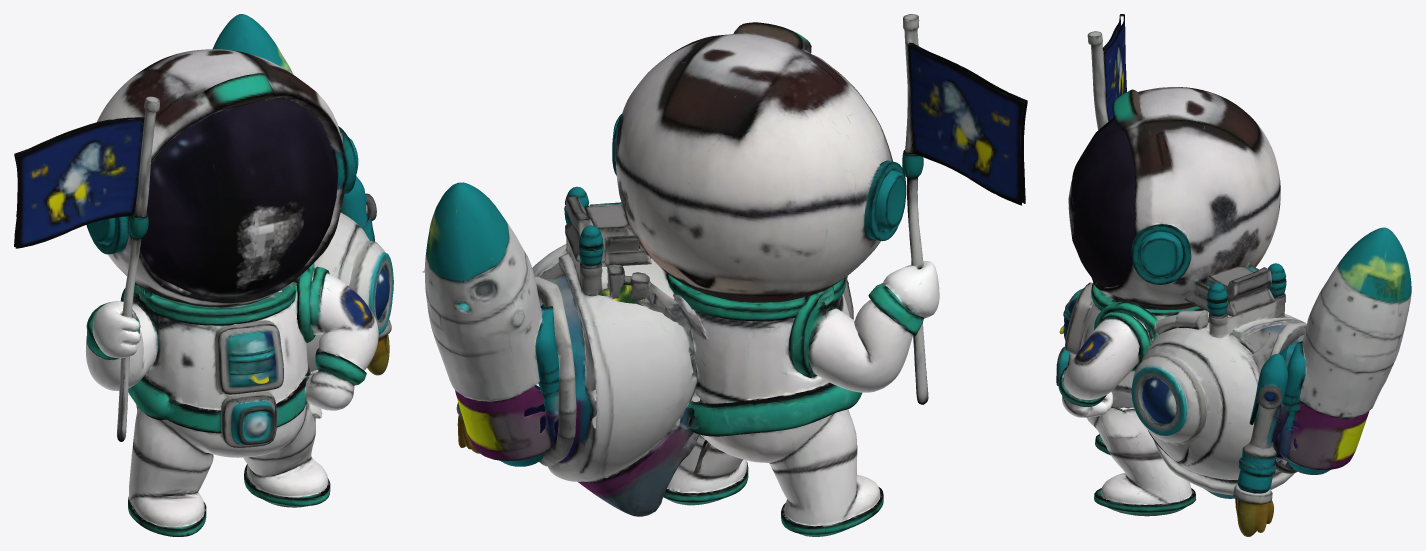
Rendered from astronot.glb.
3 views of the same model, side by side, from view 1: azimuth 30°, elevation 25°; view 2: azimuth 150°, elevation 25°; view 3: azimuth 270°, elevation 25° (orthographic). The views are drawn at different scales.
Visible parts, largest first — view 1: world; view 2: world; view 3: world.
Boxes of the visible parts, x1,y1,x2,y2 form: world: (14, 14, 393, 536); world: (422, 14, 1027, 536); world: (1056, 14, 1411, 536).
Bounding box in the file's own units: 1 × 0.9828 × 0.7759.
1 material, 1 textured.
